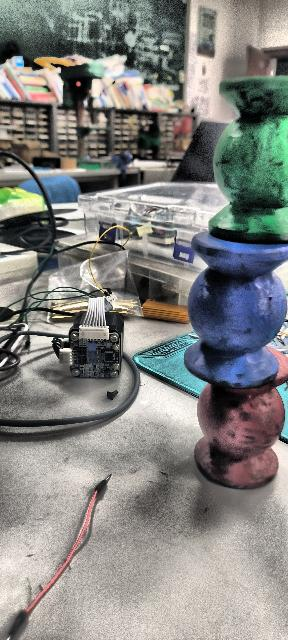blue: (184, 230, 286, 388)
green: (210, 74, 288, 254)
red: (191, 348, 288, 486)
